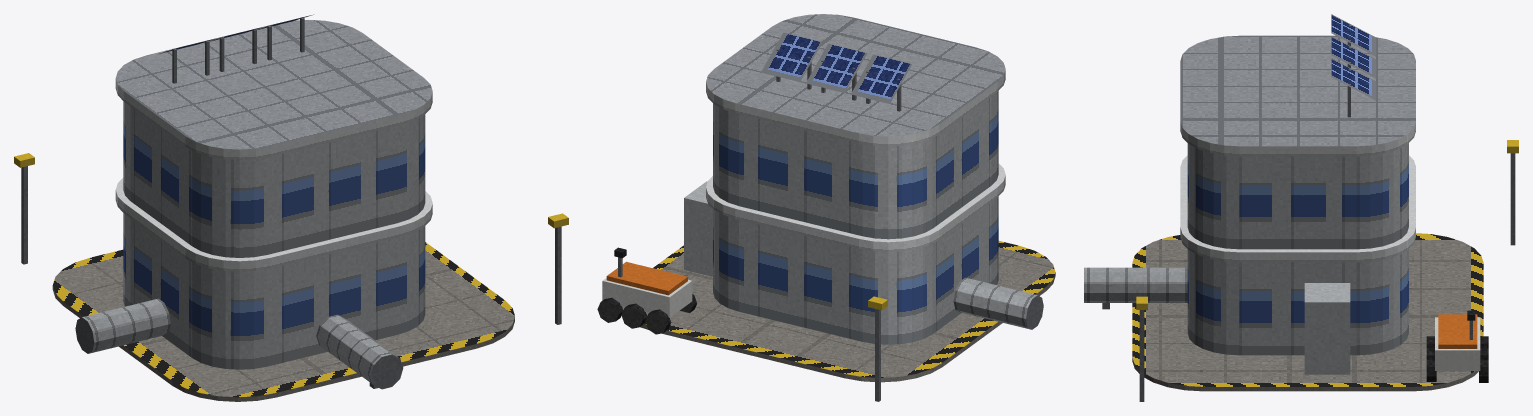
File: mars_1_inhab_byty_a.glb
The picture shows the model from 3 angles, left to right: view 1: azimuth 30°, elevation 25°; view 2: azimuth 150°, elevation 25°; view 3: azimuth 270°, elevation 25°; orthographic projection. The views are drawn at different scales.
Visible parts, largest first — view 1: inhab_byty_a; view 2: inhab_byty_a; view 3: inhab_byty_a.
Boxes of the visible parts, box(x1,y1,x2,y2) form: inhab_byty_a: box(14, 14, 568, 401); inhab_byty_a: box(597, 14, 1055, 401); inhab_byty_a: box(1084, 14, 1518, 401).
Size of the model in its own units: 13.43 by 8.74 by 13.36.
1 material, 1 textured.
